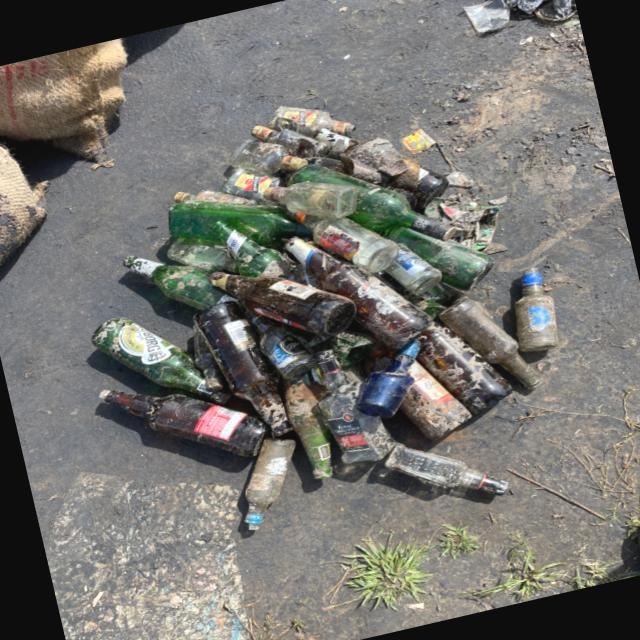chai_thuy_tinh: (295, 247, 432, 349), (194, 301, 291, 435), (290, 164, 457, 239), (90, 317, 228, 403), (98, 390, 268, 457), (440, 296, 542, 390), (416, 324, 512, 413), (218, 275, 354, 336), (317, 369, 396, 464), (386, 226, 495, 290), (168, 200, 311, 248), (385, 444, 509, 495), (123, 255, 236, 309), (297, 214, 398, 271), (283, 379, 333, 480), (356, 339, 420, 417), (246, 311, 315, 379), (212, 221, 294, 277), (245, 440, 295, 530), (515, 272, 559, 351), (262, 181, 357, 217), (385, 243, 442, 294), (268, 105, 354, 136), (251, 124, 329, 157), (166, 237, 237, 273), (228, 139, 286, 174), (221, 168, 281, 199), (173, 189, 257, 205)
